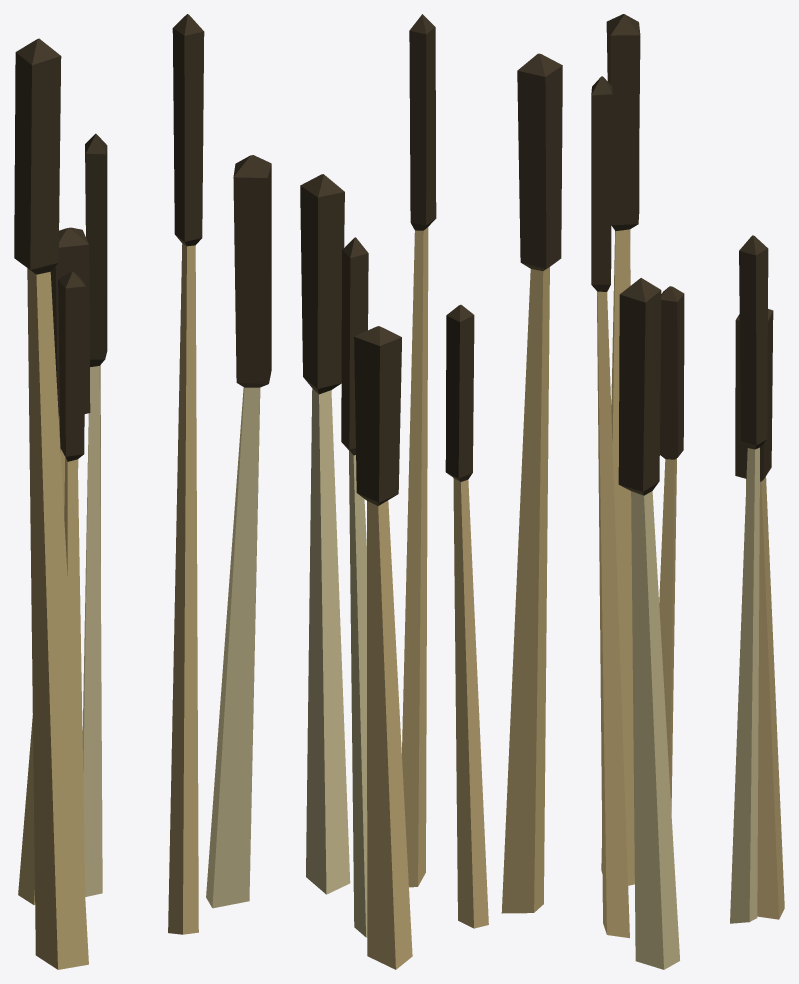
Rendered from EA03_Nature_SweetFlag_01c.glb.
3 views of the same model, side by side, from view 1: azimuth 30°, elevation 25°; view 2: azimuth 150°, elevation 25°; view 3: azimuth 270°, elevation 25° (orthographic). The views are drawn at different scales.
Parts seen in each view (by area): view 1: EA03_Nature_SweetFlag_01c; view 2: EA03_Nature_SweetFlag_01c; view 3: EA03_Nature_SweetFlag_01c.
Part boxes in pixels (x1,y1,x2,y2): EA03_Nature_SweetFlag_01c: [14, 14, 271, 969]; EA03_Nature_SweetFlag_01c: [300, 14, 562, 969]; EA03_Nature_SweetFlag_01c: [591, 14, 784, 969].
Size of the model in its own units: 0.8609 by 2.95 by 0.5995.
1 material, 1 textured.
